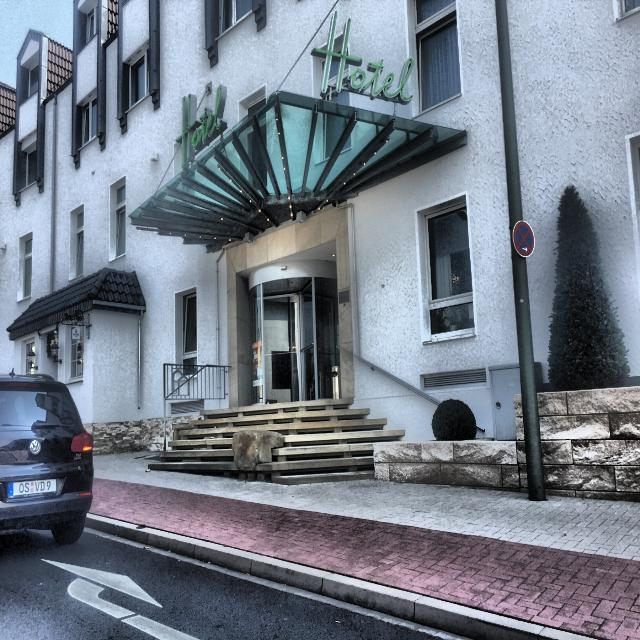escada: (159, 404, 410, 480)
